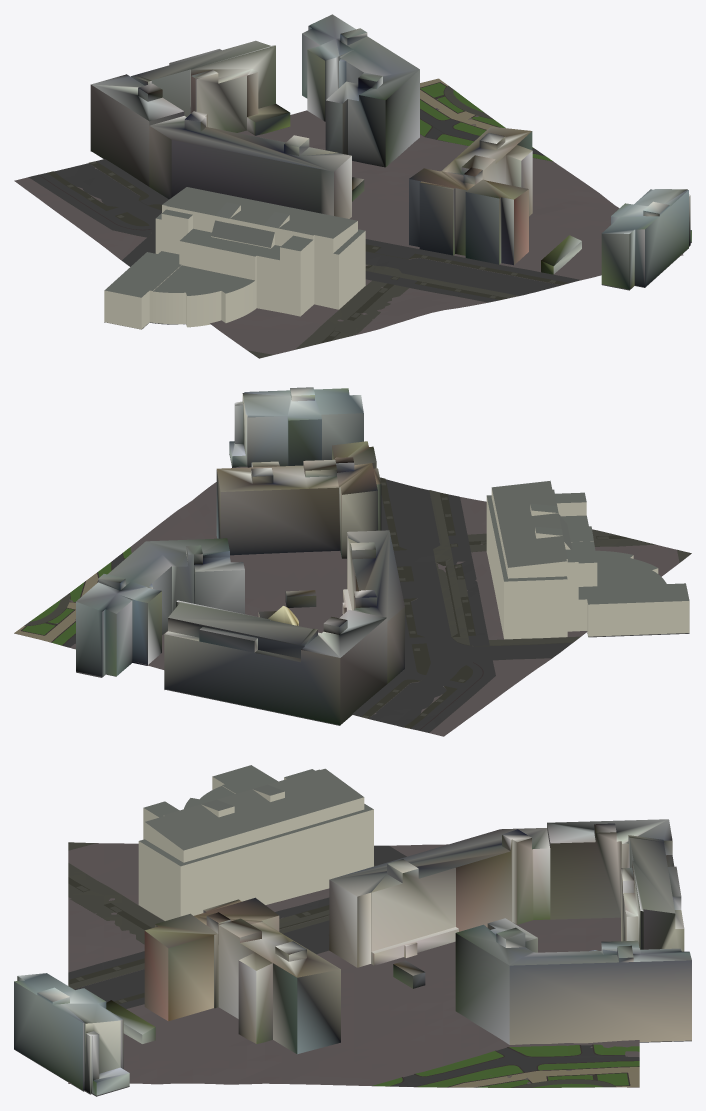
The picture shows the model from 3 angles, top to bottom: view 1: azimuth 30°, elevation 25°; view 2: azimuth 150°, elevation 25°; view 3: azimuth 270°, elevation 25°; orthographic projection. The views are drawn at different scales.
Visible parts, largest first — view 1: c_m16_p07; view 2: c_m16_p07; view 3: c_m16_p07.
Boxes of the visible parts, bbox=[...] form: c_m16_p07: bbox=[14, 14, 691, 358]; c_m16_p07: bbox=[14, 387, 691, 736]; c_m16_p07: bbox=[14, 765, 691, 1096].
Bounding box in the file's own units: 157 × 22.57 × 152.
